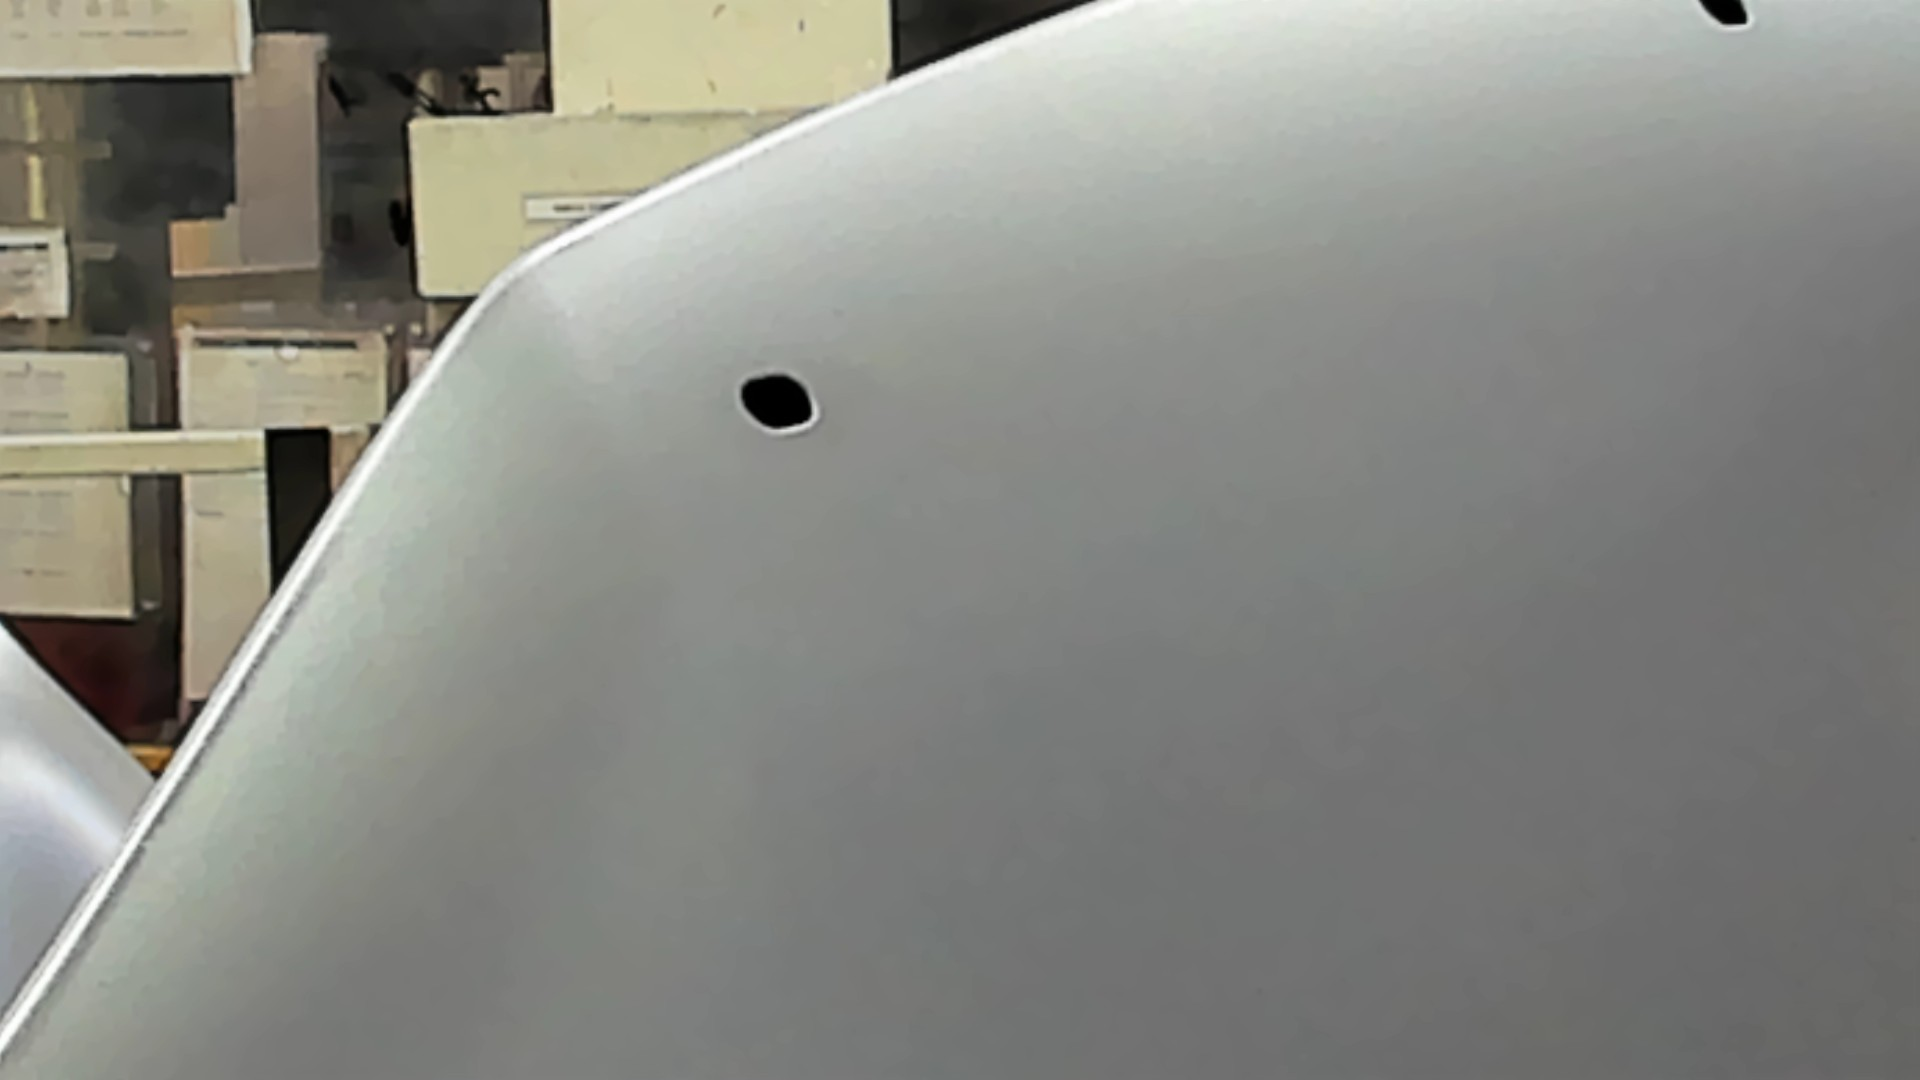amorfo: (731, 367, 828, 438), (1698, 1, 1760, 37)
